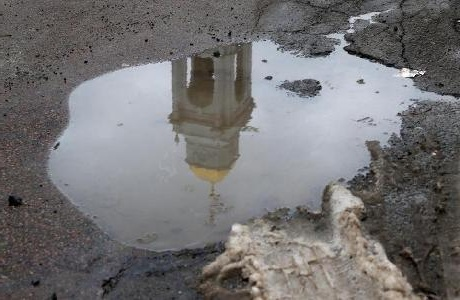pothole: (44, 33, 443, 253)
